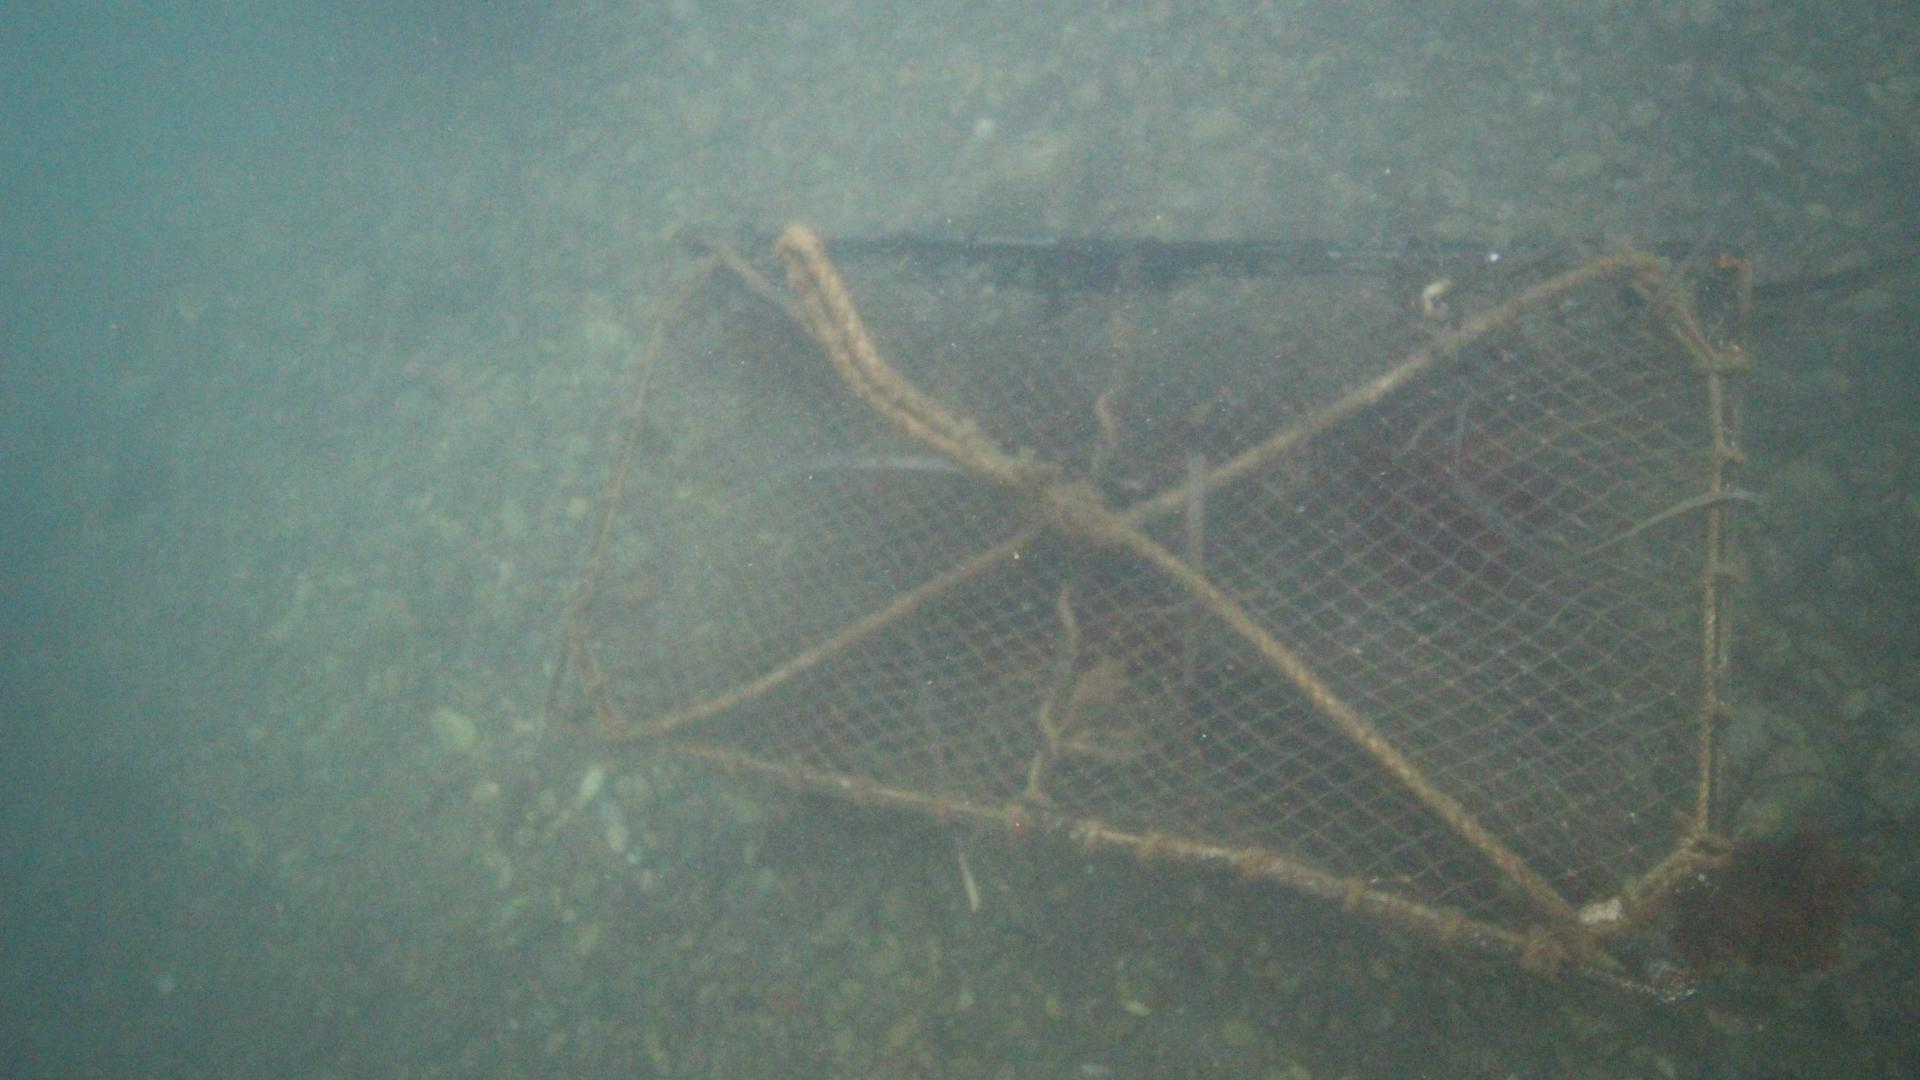rectangular fish trap: (541, 218, 1759, 1019)
